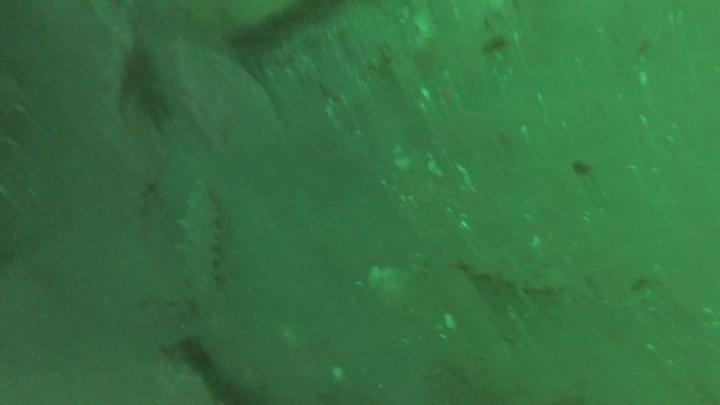holothurian: (447, 234, 573, 302), (168, 181, 233, 312)
